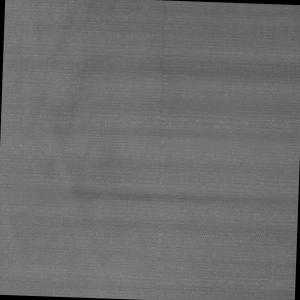Wrinkle: (12, 32, 300, 154), (10, 175, 300, 241)
